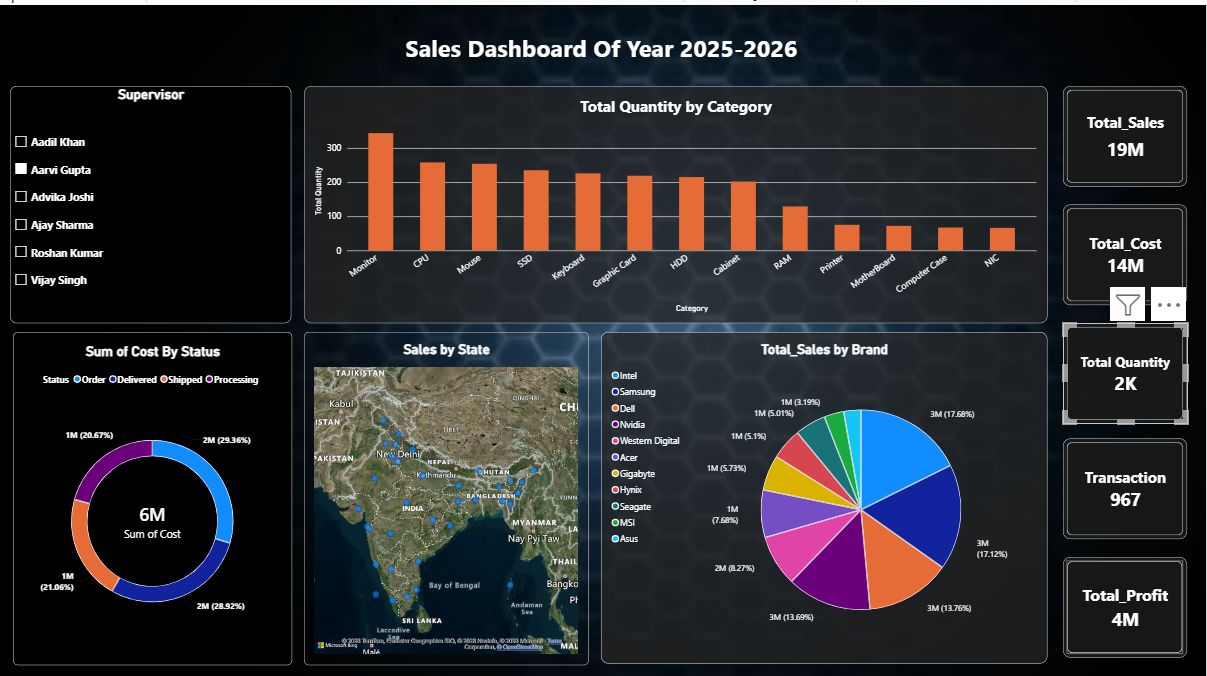

The dashboard page shown, as its layout file describes it:
{"tool":"powerbi","page":{"name":"Page 1","canvas":[1920,1080],"ordinal":0},"visuals":[{"type":"textbox","box":[0,42.5,1920,87.5],"z":0},{"type":"cardVisual","fields":{"Data":["Sum(Sales_Data.Total_Sales)"]},"box":[1695,130,197.5,160],"z":1000},{"type":"cardVisual","fields":{"Data":["Sum(Sales_Data.Total_Cost)"]},"box":[1695,317.5,197.5,160],"z":2000},{"type":"cardVisual","fields":{"Data":["Sum(Sales_Data.Quantity)"]},"box":[1695,505,197.5,160],"z":3000},{"type":"cardVisual","fields":{"Data":["CountNonNull(Sales_Data.Order_Number)"]},"box":[1695,690,197.5,160],"z":4000},{"type":"cardVisual","fields":{"Data":["Sales_Data.Total_Profit"]},"box":[1695,877.5,197.5,160],"z":5000},{"type":"clusteredColumnChart","fields":{"Category":["Sales_Data.Category"],"Y":["Sum(Sales_Data.Quantity)"]},"box":[487.5,130,1182.5,377.5],"z":6000},{"type":"pieChart","fields":{"Category":["Sales_Data.Brand"],"Y":["Sum(Sales_Data.Total_Sales)"]},"box":[960,520,710,527.5],"z":7000},{"type":"map","title":"Sales by State","fields":{"Category":["State_list.State"]},"box":[487.5,520,452.5,530],"z":8000},{"type":"slicer","title":"Supervisor","fields":{"Values":["Supervisor.Supervisor"]},"box":[20,130,447.5,377.5],"z":9000},{"type":"donutChart","title":"Sum of Cost By Status","fields":{"Category":["Sales_Data.Status"],"Y":["Sum(Sales_Data.Cost)"]},"box":[23.9,520.1,443.8,529.7],"z":10000}]}

Visuals, with their boxes in screenshot pixels (x1, y1, x2, y2), scaled from the page's 1920x1080 canvas onto the 1207x676 screenshot:
textbox: [left=0, top=27, right=1206, bottom=81]
cardVisual - Sum(Sales_Data.Total_Sales): [left=1066, top=81, right=1190, bottom=182]
cardVisual - Sum(Sales_Data.Total_Cost): [left=1066, top=199, right=1190, bottom=299]
cardVisual - Sum(Sales_Data.Quantity): [left=1066, top=316, right=1190, bottom=416]
cardVisual - CountNonNull(Sales_Data.Order_Number): [left=1066, top=432, right=1190, bottom=532]
cardVisual - Sales_Data.Total_Profit: [left=1066, top=549, right=1190, bottom=649]
clusteredColumnChart - Sales_Data.Category x Sum(Sales_Data.Quantity): [left=306, top=81, right=1050, bottom=318]
pieChart - Sales_Data.Brand x Sum(Sales_Data.Total_Sales): [left=604, top=325, right=1050, bottom=656]
"Sales by State" map: [left=306, top=325, right=591, bottom=657]
"Supervisor" slicer: [left=13, top=81, right=294, bottom=318]
"Sum of Cost By Status" donutChart: [left=15, top=326, right=294, bottom=657]
